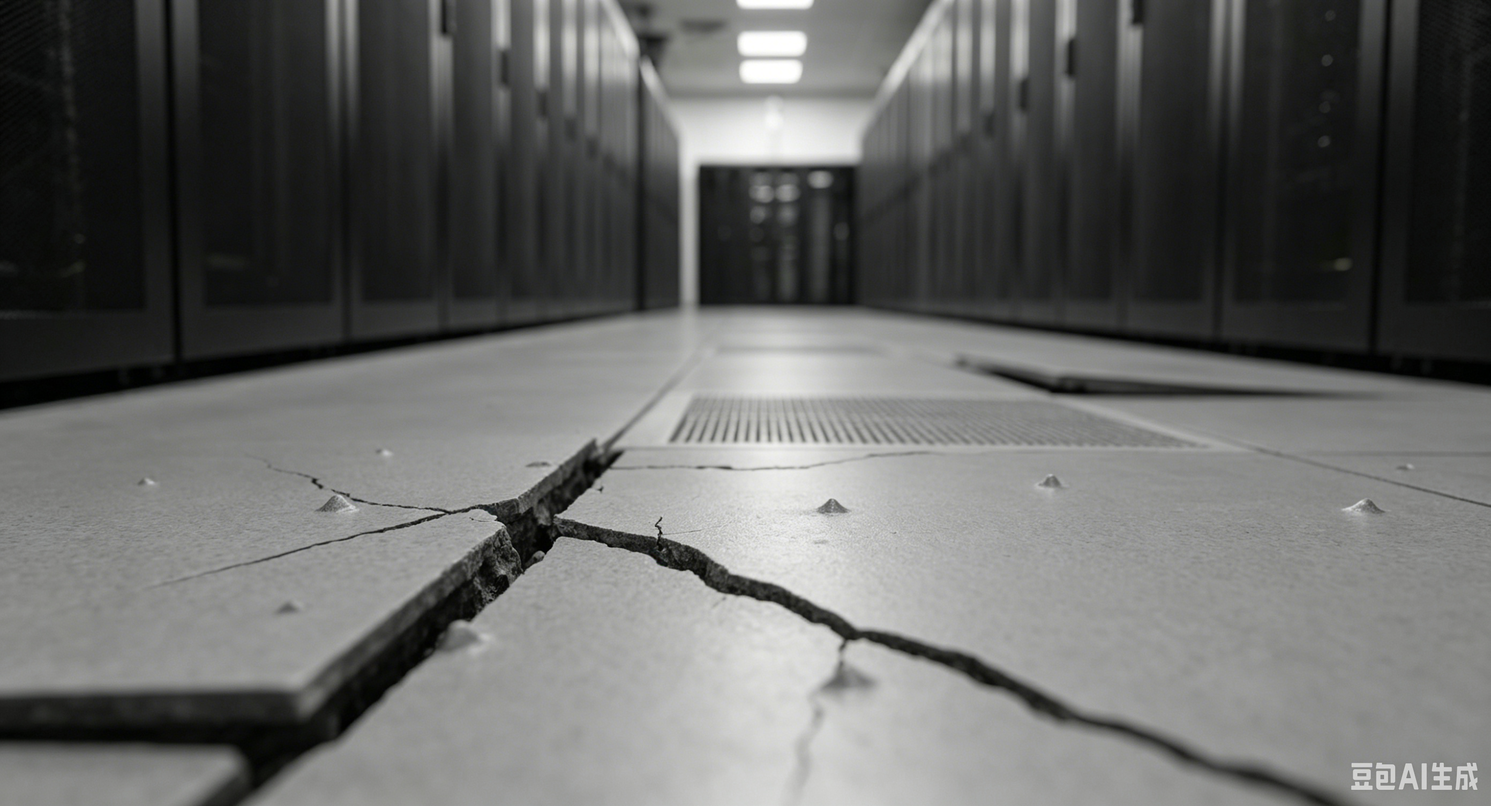floor_defect: (7, 651, 411, 806), (757, 568, 1057, 721), (943, 336, 1371, 410), (1067, 686, 1336, 802), (231, 453, 507, 536), (338, 548, 491, 676), (558, 507, 753, 607), (180, 531, 358, 599), (517, 422, 642, 505), (494, 502, 555, 616)
